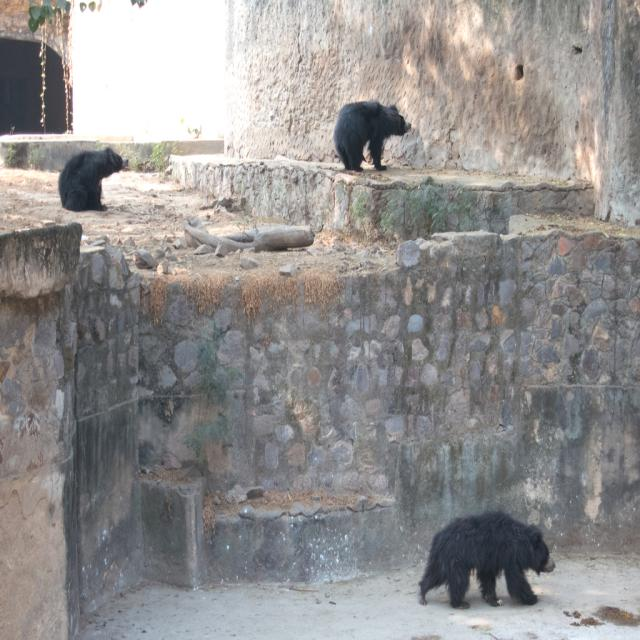Buffalo: (417, 508, 556, 609), (331, 100, 412, 170), (56, 146, 128, 212)
